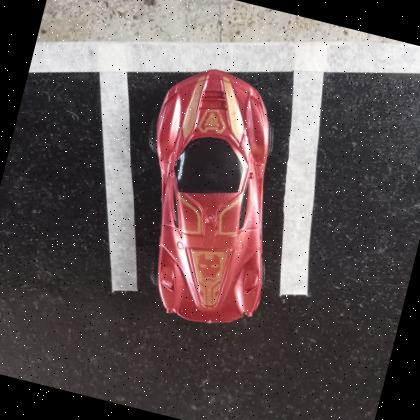Car: (155, 68, 270, 322)
